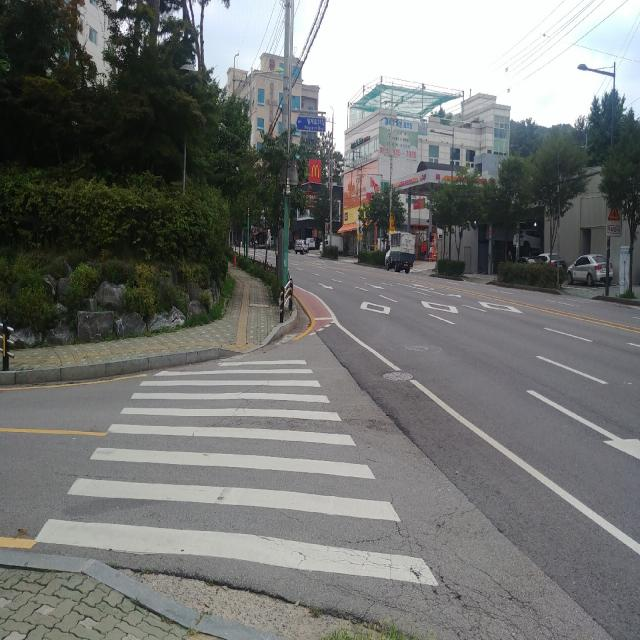횡단보도: (33, 356, 442, 590)
